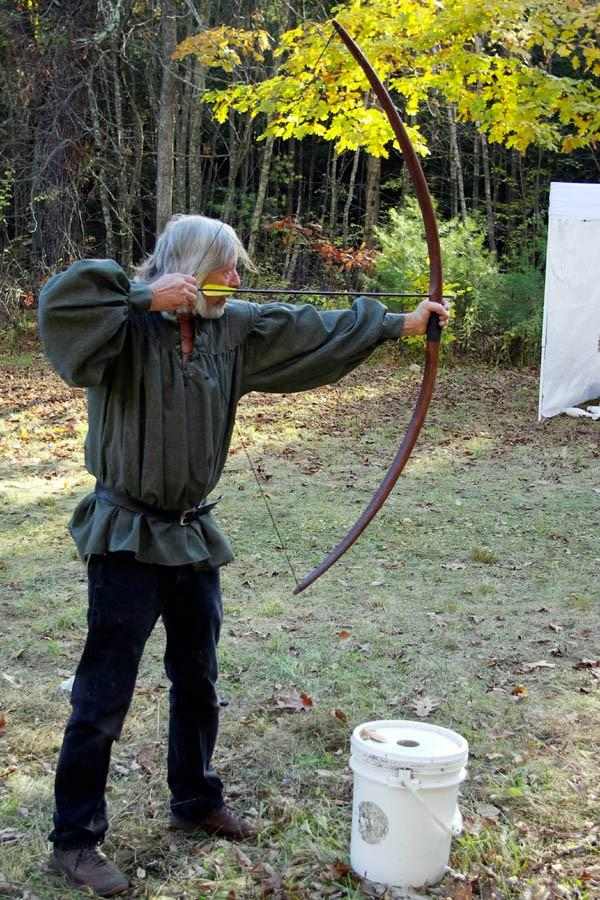person: (39, 207, 452, 894)
